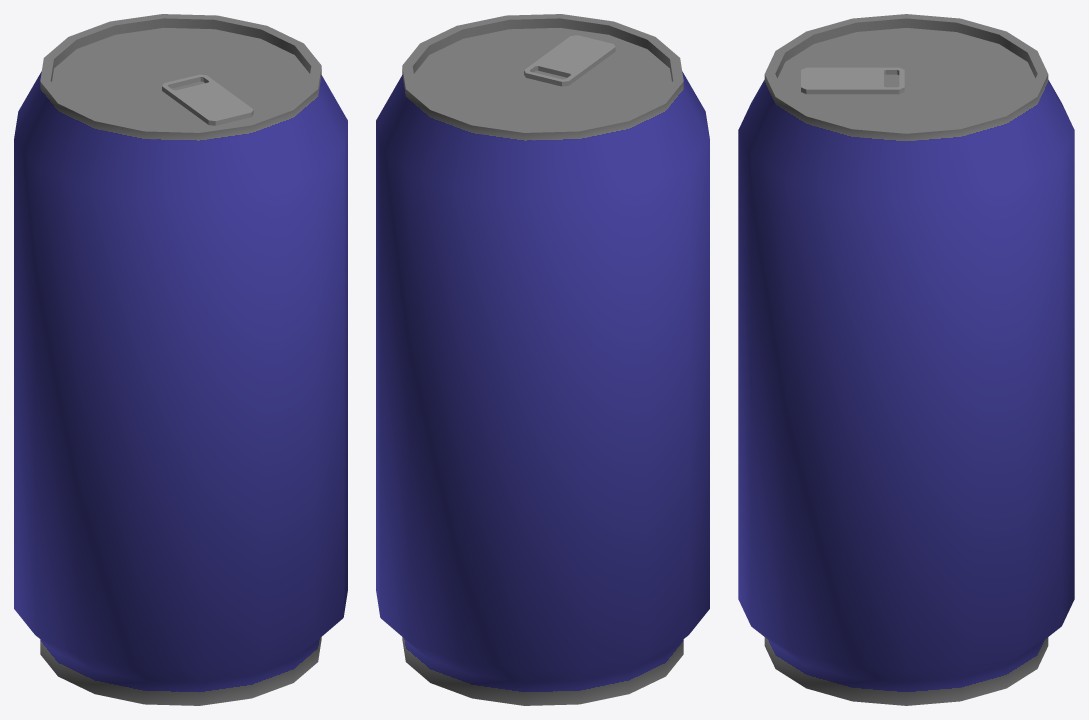
Rendered from can.glb.
3 views of the same model, side by side, from view 1: azimuth 30°, elevation 25°; view 2: azimuth 150°, elevation 25°; view 3: azimuth 270°, elevation 25° (orthographic).
Parts seen in each view (by area): view 1: can; view 2: can; view 3: can.
Boxes of the visible parts, <box> form: can: <box>14,14,347,705</box>; can: <box>376,14,709,705</box>; can: <box>738,14,1074,705</box>.
Bounding box in the file's own units: 0.065 × 0.122 × 0.065.
Materials: 1 (1 with a texture image).
